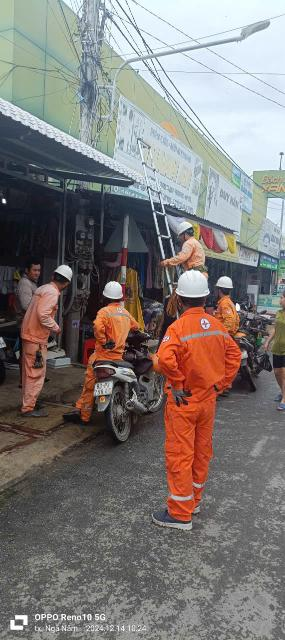gloves: (163, 381, 195, 407), (97, 337, 122, 352)
helmet: (177, 270, 208, 303), (50, 260, 76, 284), (97, 283, 128, 302), (169, 216, 196, 234), (213, 275, 235, 293)
shoes: (144, 509, 202, 534), (20, 406, 48, 422), (69, 410, 90, 430), (56, 408, 83, 420)
